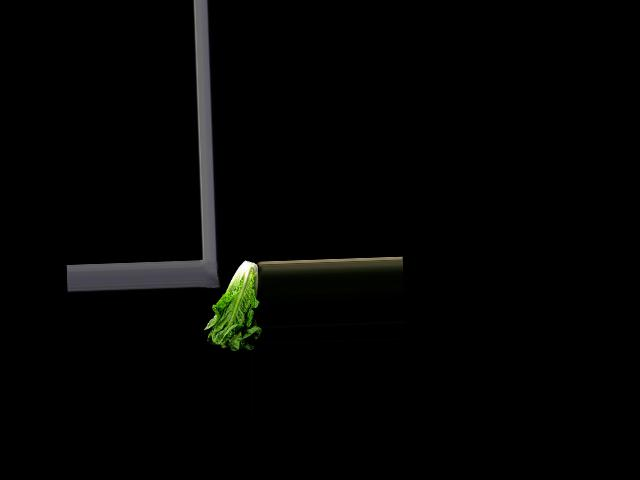lettuce: (202, 259, 262, 353)
